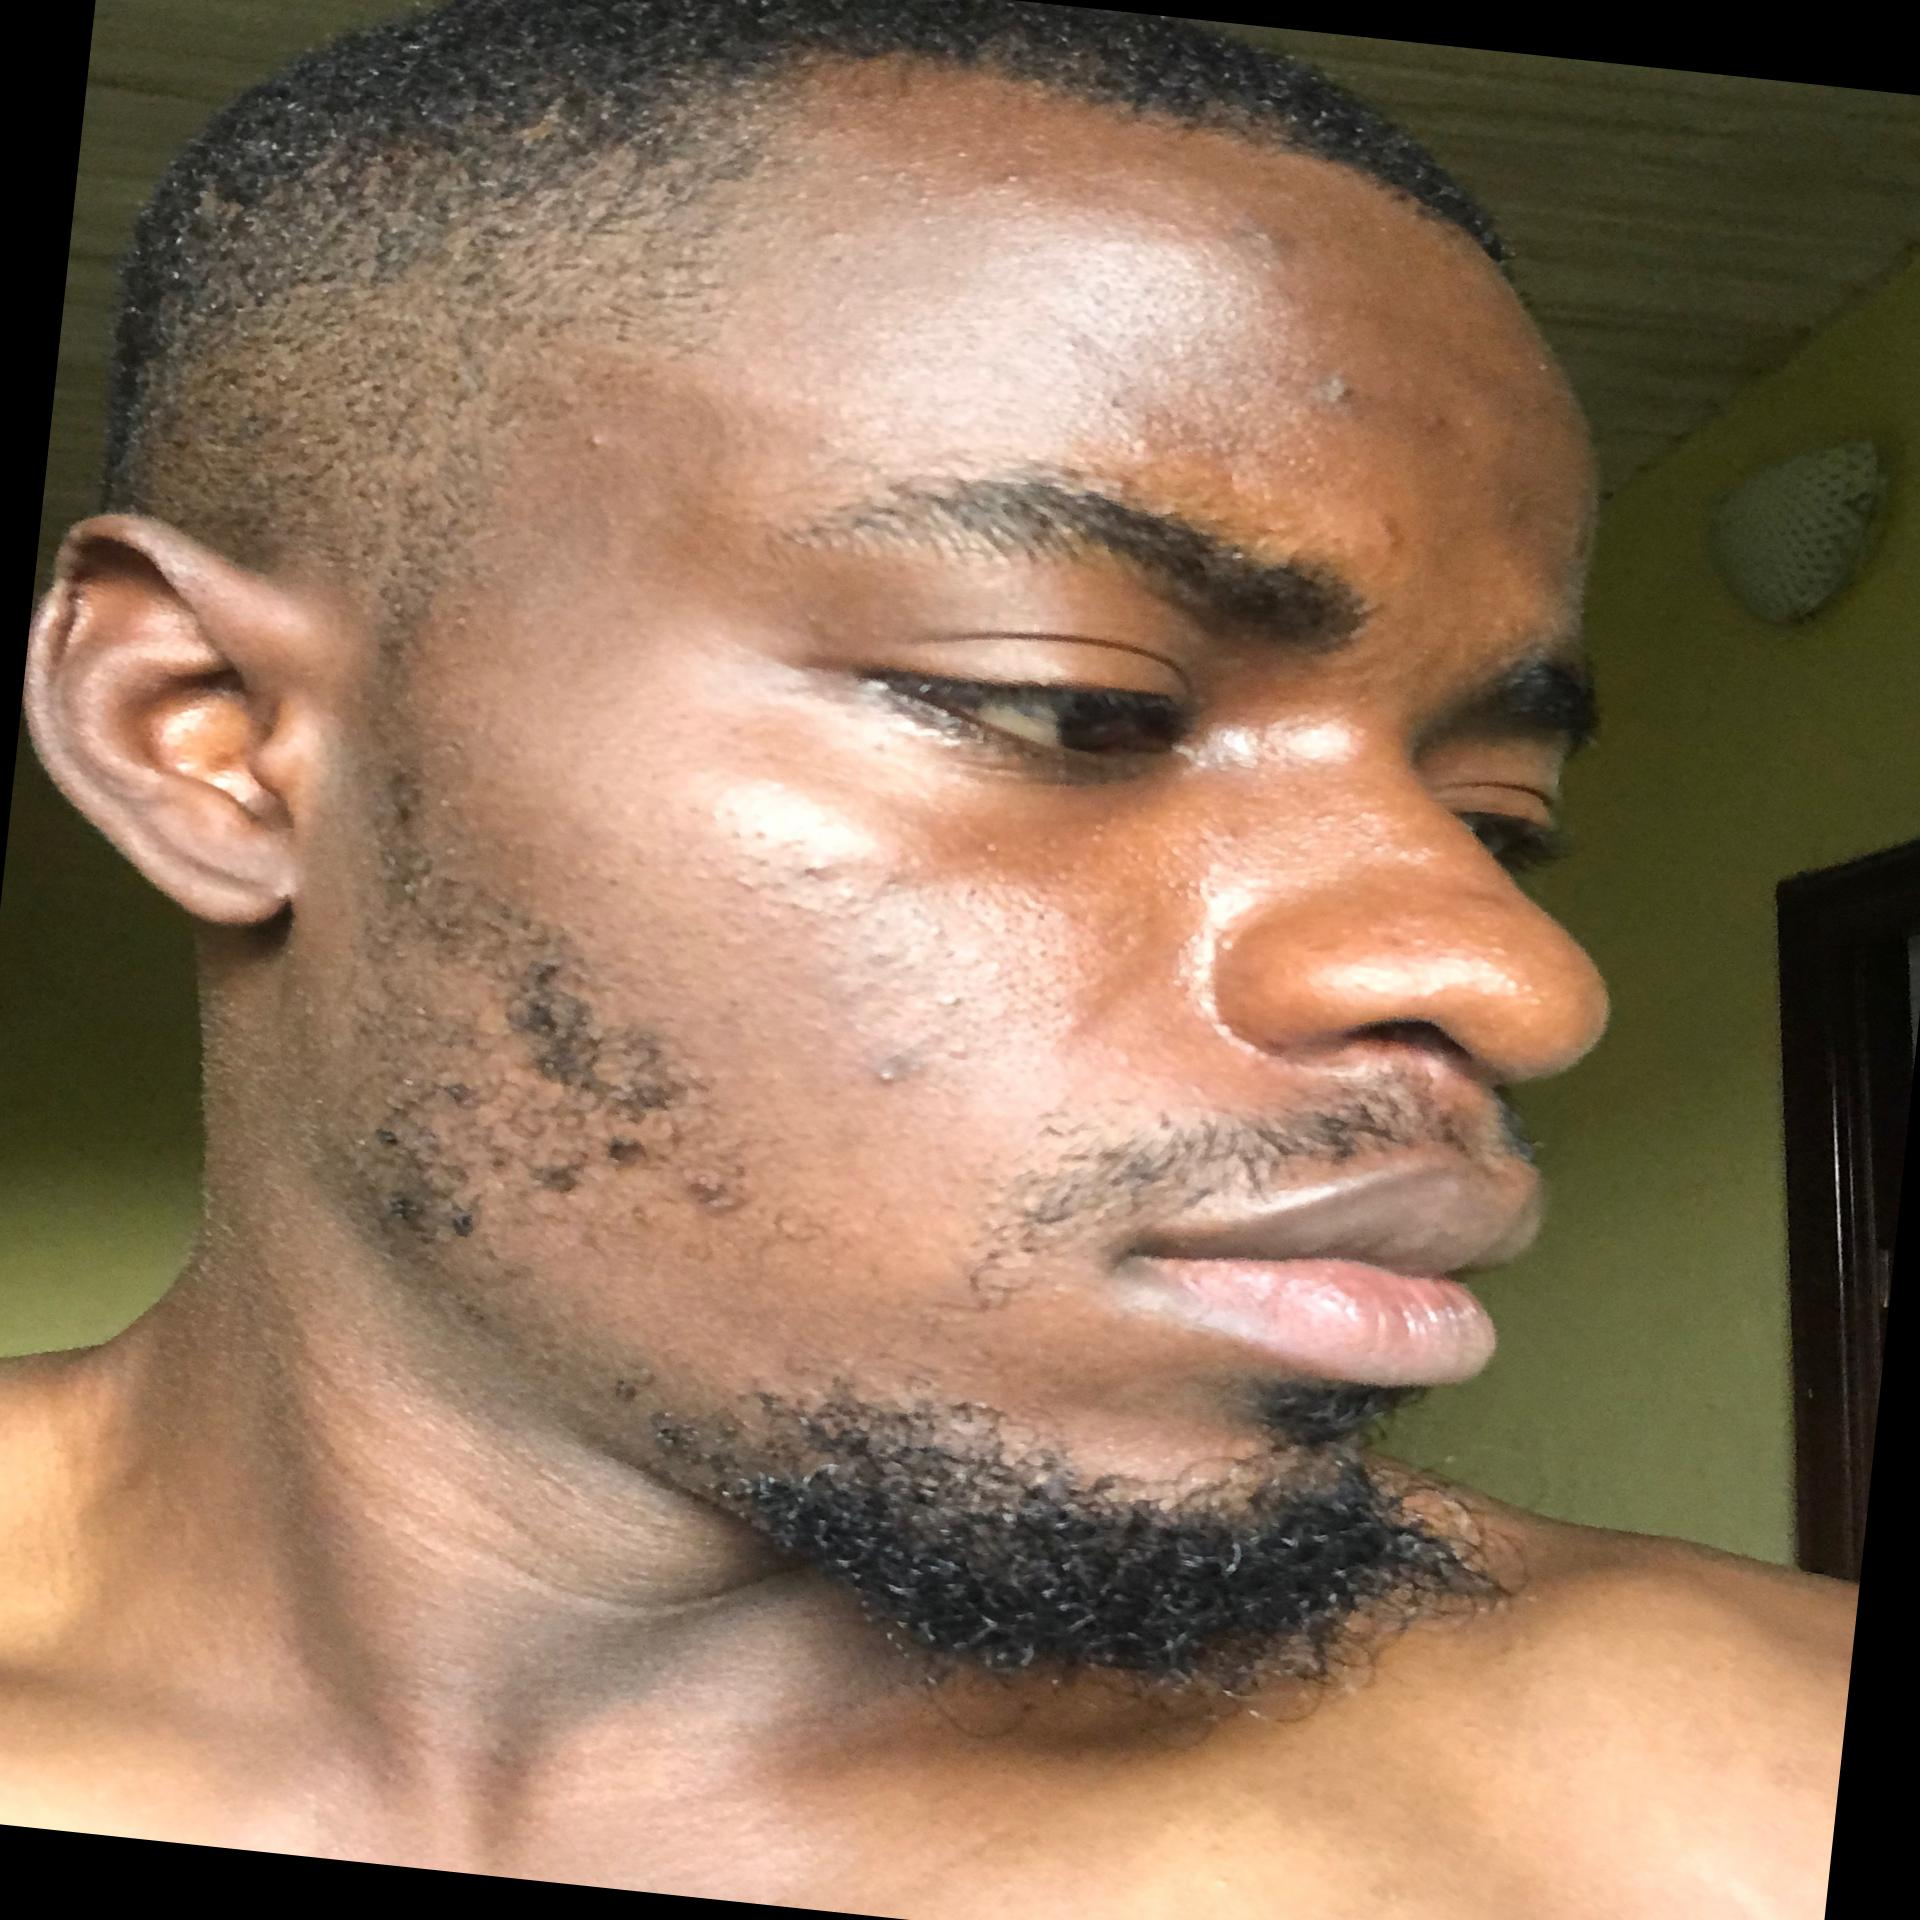Acne: (1294, 360, 1370, 425), (1231, 213, 1299, 269), (862, 1036, 914, 1101), (1366, 505, 1410, 557), (1421, 403, 1458, 438)
Blackhead: (684, 802, 897, 974), (826, 937, 992, 1057), (1043, 811, 1238, 904)
Englarged Pores: (918, 872, 1113, 1036)
